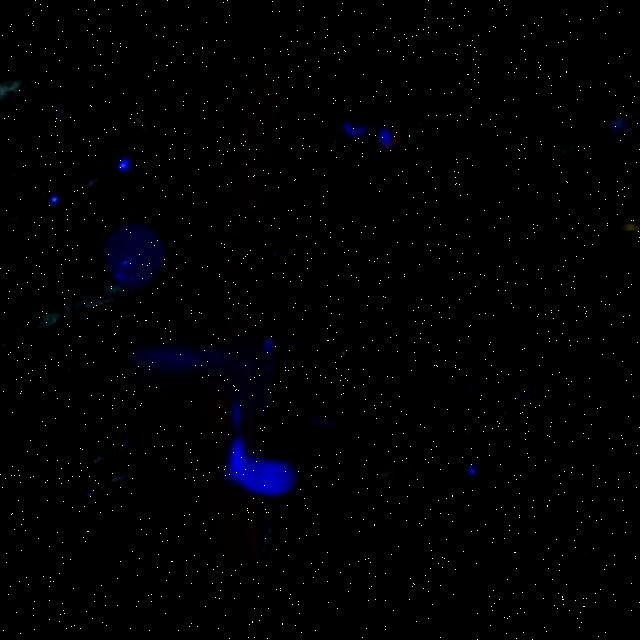microbeads: (618, 223, 640, 237)
